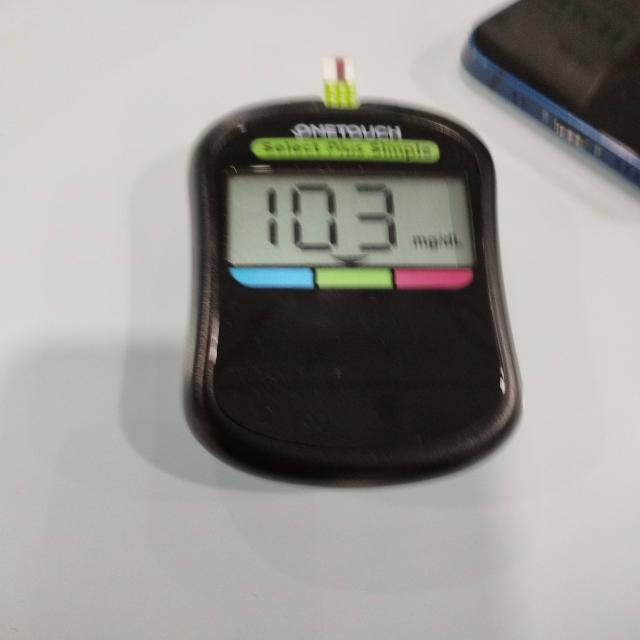gluco: (188, 61, 522, 490)
